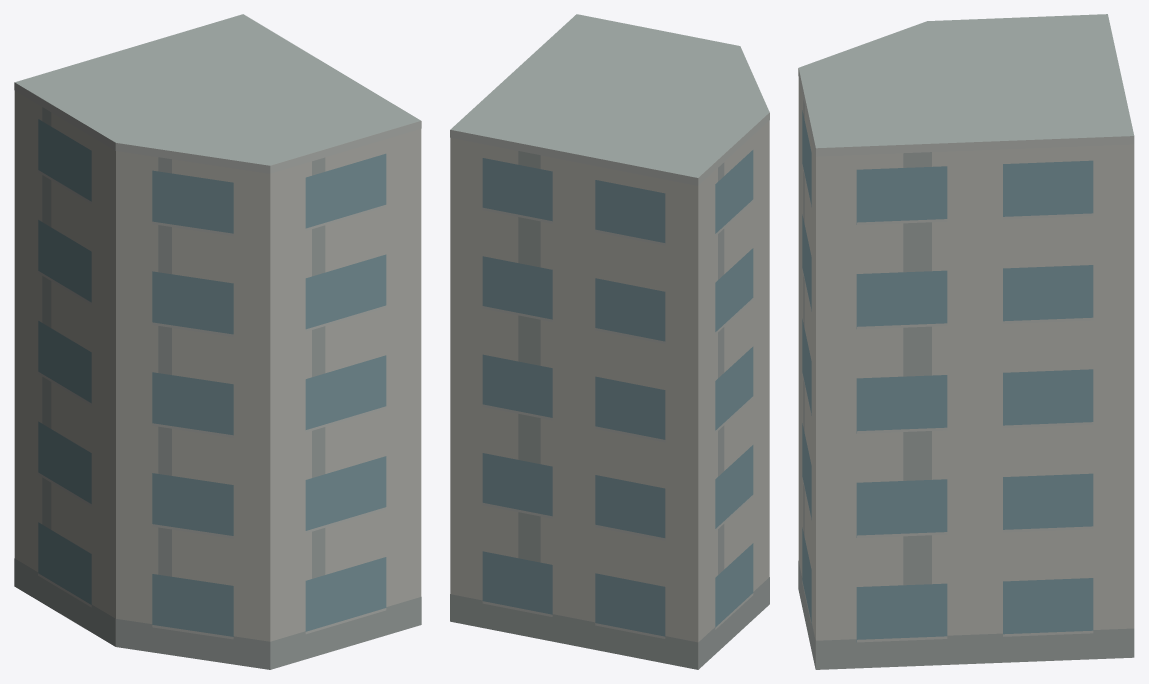
Rendered from residential-4314e2b9-776d-4c6c-b41b-0835aa67b2f4.glb.
3 views of the same model, side by side, from view 1: azimuth 30°, elevation 25°; view 2: azimuth 150°, elevation 25°; view 3: azimuth 270°, elevation 25° (orthographic). The views are drawn at different scales.
Visible parts, largest first — view 1: residential-4314e2b9-776d-4c6c-b41b-0835aa67b2f4.tmp; view 2: residential-4314e2b9-776d-4c6c-b41b-0835aa67b2f4.tmp; view 3: residential-4314e2b9-776d-4c6c-b41b-0835aa67b2f4.tmp.
Boxes of the visible parts, x1,y1,x2,y2 form: residential-4314e2b9-776d-4c6c-b41b-0835aa67b2f4.tmp: (14, 14, 421, 669); residential-4314e2b9-776d-4c6c-b41b-0835aa67b2f4.tmp: (450, 14, 769, 669); residential-4314e2b9-776d-4c6c-b41b-0835aa67b2f4.tmp: (798, 14, 1134, 669).
Size of the model in its own units: 8.42 by 15.25 by 8.91.
